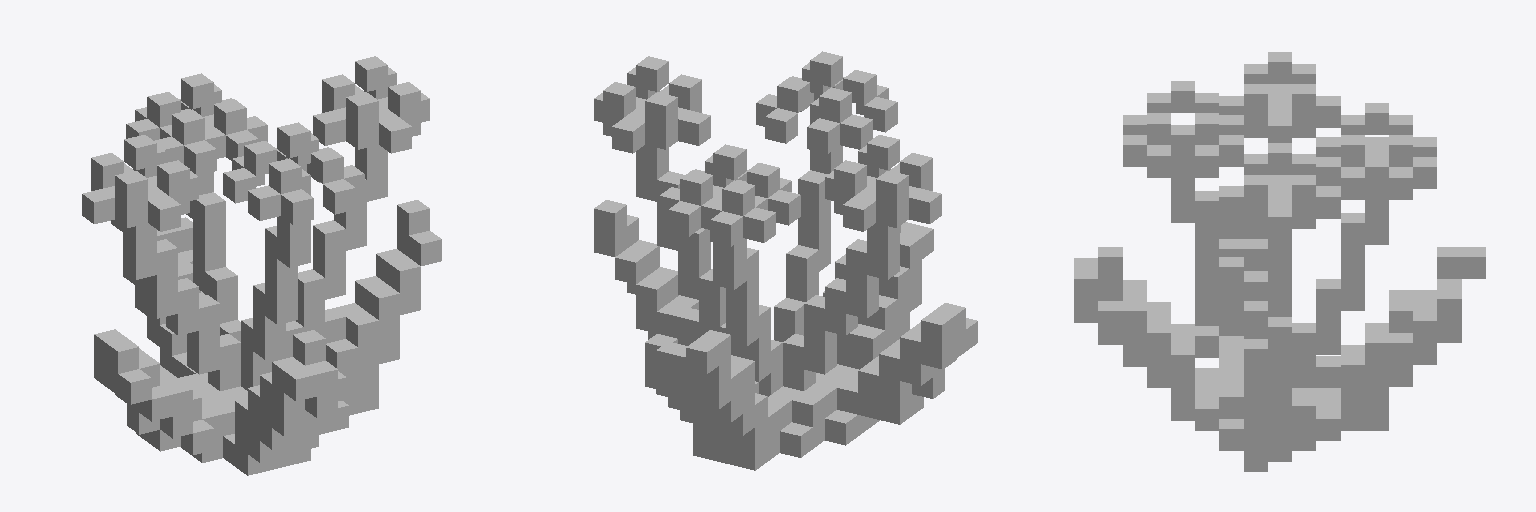
The model's file is fleur 2.obj.
3 renders of one model, left to right at view 1: azimuth 30°, elevation 25°; view 2: azimuth 150°, elevation 25°; view 3: azimuth 270°, elevation 25°, orthographic.
Parts seen in each view (by area): view 1: object 1; view 2: object 1; view 3: object 1.
Part boxes in pixels (x1,y1,x2,y2): object 1: (82, 56, 441, 475); object 1: (594, 51, 977, 470); object 1: (1074, 52, 1485, 471).
Bounding box in the file's own units: 1.6 × 1.5 × 1.7.